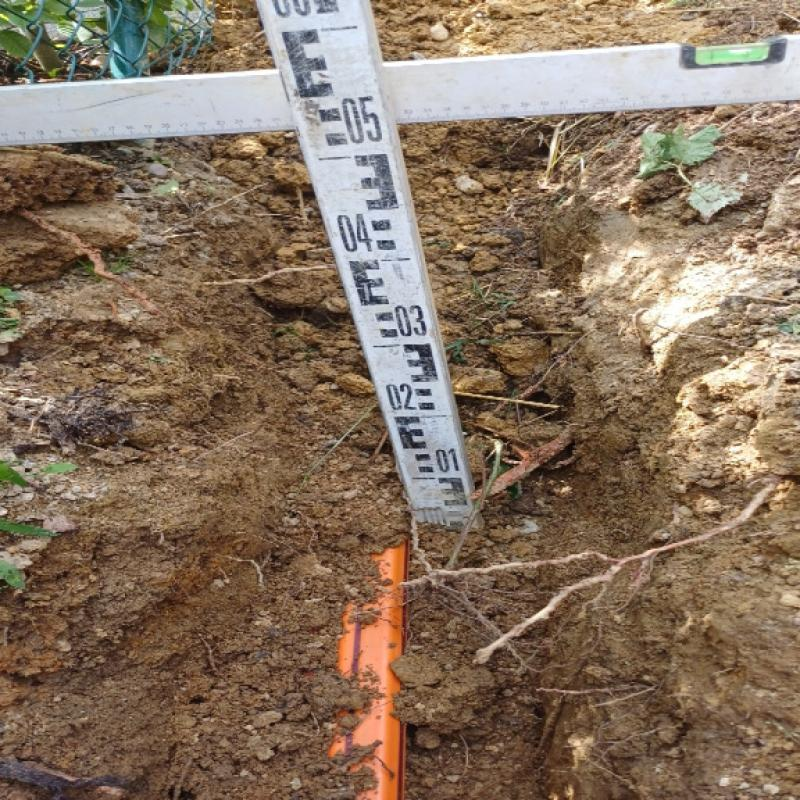Orang-Speednetrohrchen: (322, 541, 416, 800)
